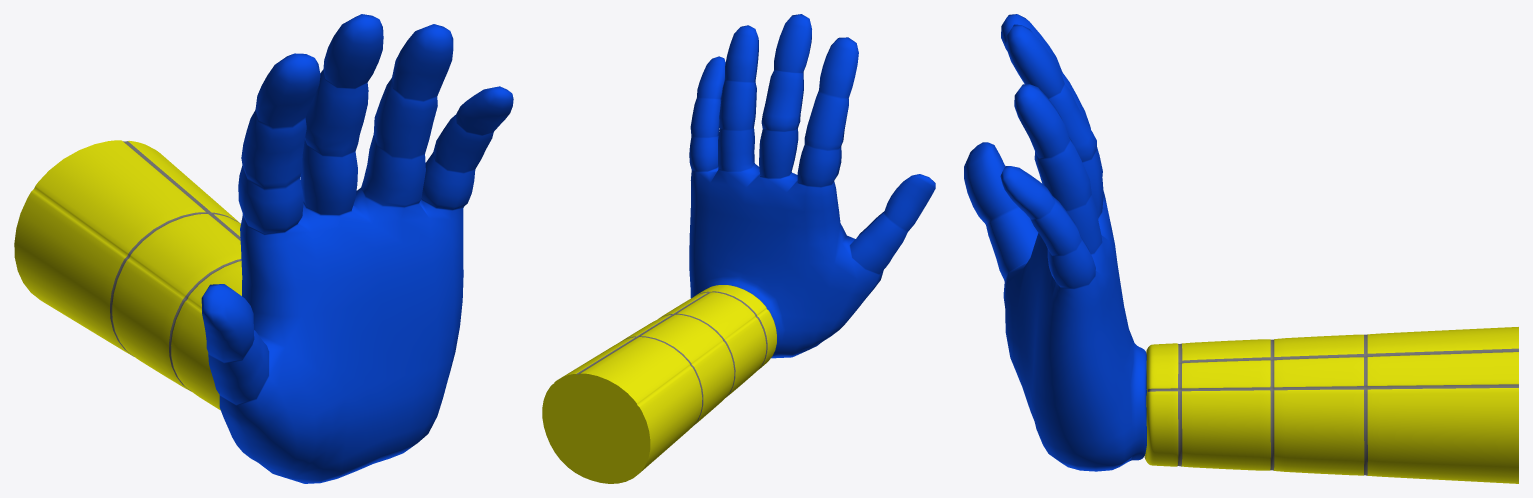
Rendered from hand1.fbx.
3 renders of one model, left to right at view 1: azimuth 30°, elevation 25°; view 2: azimuth 150°, elevation 25°; view 3: azimuth 270°, elevation 25°, orthographic. The views are drawn at different scales.
Visible parts, largest first — view 1: polySurface1, polySurface2; view 2: polySurface1, polySurface2; view 3: polySurface2, polySurface1.
Boxes of the visible parts, x1,y1,x2,y2 form: polySurface1: (201, 14, 513, 483); polySurface2: (14, 140, 242, 410); polySurface1: (689, 14, 935, 358); polySurface2: (542, 285, 776, 483); polySurface2: (1144, 327, 1518, 483); polySurface1: (964, 14, 1146, 471).
Bounding box in the file's own units: 13.82 × 20.14 × 23.06.
